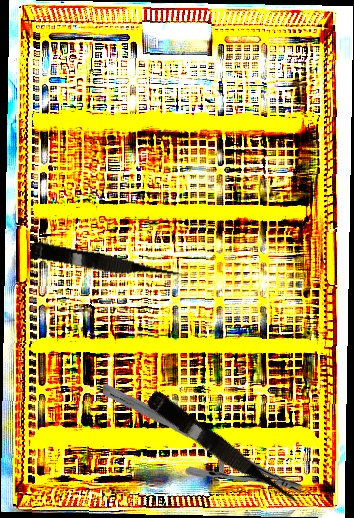Micro Scissor: (142, 388, 307, 517), (29, 240, 186, 289)
Needle Holder: (103, 377, 302, 501)
